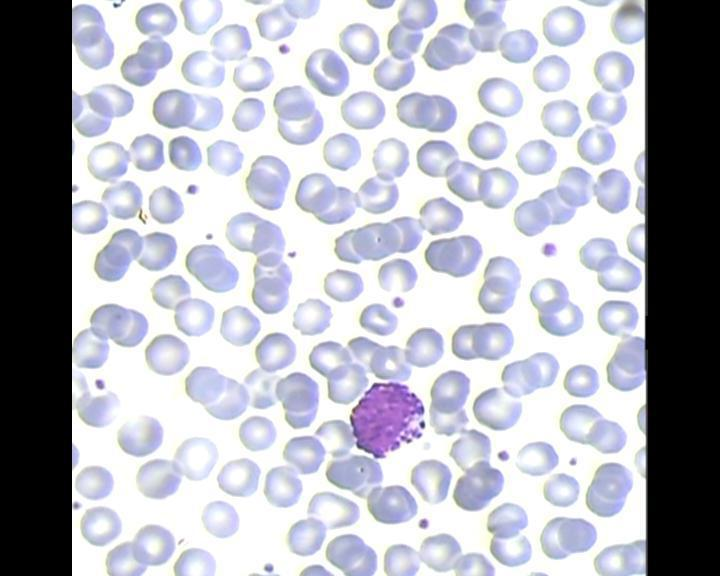baso: (344, 379, 429, 462)
